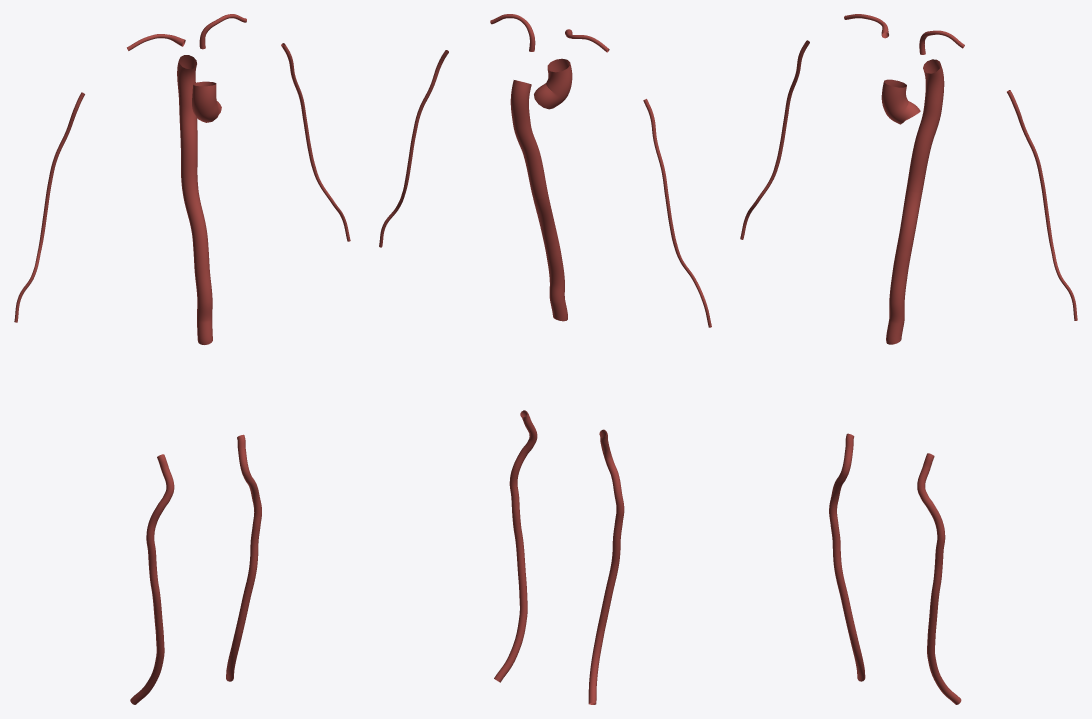
The model's file is arterial-balanced.glb.
3 renders of one model, left to right at view 1: azimuth 30°, elevation 25°; view 2: azimuth 150°, elevation 25°; view 3: azimuth 330°, elevation 25°, orthographic.
Visible parts, largest first — view 1: za.abdominal-aorta, za.thoracic-aorta, za.femoral-artery-r, za.femoral-artery-l, za.brachial-artery-r, za.ascending-aorta, za.brachial-artery-l; view 2: za.femoral-artery-l, za.femoral-artery-r, za.thoracic-aorta, za.abdominal-aorta, za.ascending-aorta, za.brachial-artery-r, za.brachial-artery-l; view 3: za.abdominal-aorta, za.thoracic-aorta, za.femoral-artery-l, za.femoral-artery-r, za.ascending-aorta, za.brachial-artery-l, za.brachial-artery-r.
Boxes of the visible parts, x1=… form: za.abdominal-aorta: x1=182, y1=189, x2=212, y2=344; za.thoracic-aorta: x1=177, y1=55, x2=198, y2=190; za.femoral-artery-r: x1=130, y1=454, x2=174, y2=704; za.femoral-artery-l: x1=226, y1=434, x2=261, y2=681; za.brachial-artery-r: x1=14, y1=92, x2=84, y2=322; za.ascending-aorta: x1=192, y1=81, x2=221, y2=122; za.brachial-artery-l: x1=281, y1=43, x2=350, y2=241; za.femoral-artery-l: x1=494, y1=410, x2=537, y2=682; za.femoral-artery-r: x1=588, y1=429, x2=624, y2=704; za.thoracic-aorta: x1=510, y1=80, x2=547, y2=198; za.abdominal-aorta: x1=532, y1=194, x2=567, y2=321; za.ascending-aorta: x1=534, y1=58, x2=572, y2=109; za.brachial-artery-r: x1=643, y1=99, x2=711, y2=327; za.brachial-artery-l: x1=379, y1=50, x2=448, y2=247; za.abdominal-aorta: x1=886, y1=189, x2=922, y2=344; za.thoracic-aorta: x1=906, y1=59, x2=944, y2=192; za.femoral-artery-l: x1=917, y1=453, x2=961, y2=704; za.femoral-artery-r: x1=829, y1=433, x2=865, y2=681; za.ascending-aorta: x1=881, y1=79, x2=920, y2=124; za.brachial-artery-l: x1=1007, y1=90, x2=1077, y2=320; za.brachial-artery-r: x1=740, y1=40, x2=809, y2=239.
Size of the model in its own units: 0.4532 by 0.8676 by 0.1006.
